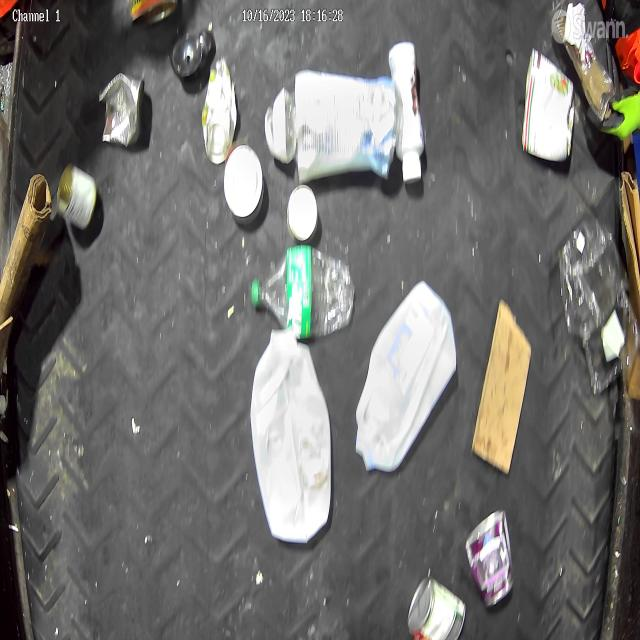can: (522, 50, 576, 164), (465, 512, 515, 607), (202, 58, 238, 164), (98, 71, 146, 147), (408, 578, 466, 640), (224, 146, 264, 222), (56, 163, 96, 230), (286, 184, 318, 243)
milk_jug: (356, 282, 456, 473), (251, 329, 331, 544)
plastic_bottle: (560, 216, 639, 392), (252, 246, 355, 339)
